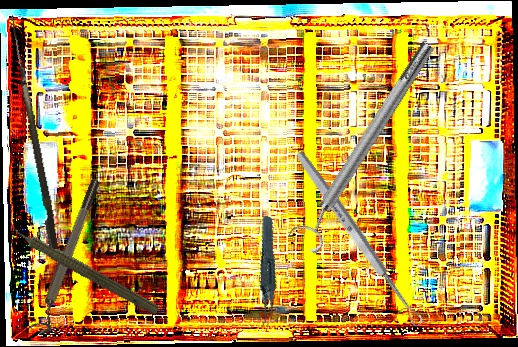Fixation Ring: (284, 35, 447, 256), (28, 177, 109, 337)
Handpiece: (1, 216, 164, 318)
Hook Surgical: (0, 15, 63, 250)
Surgical Spoon: (293, 148, 425, 330)
Tissue Forceps: (235, 215, 296, 331)
